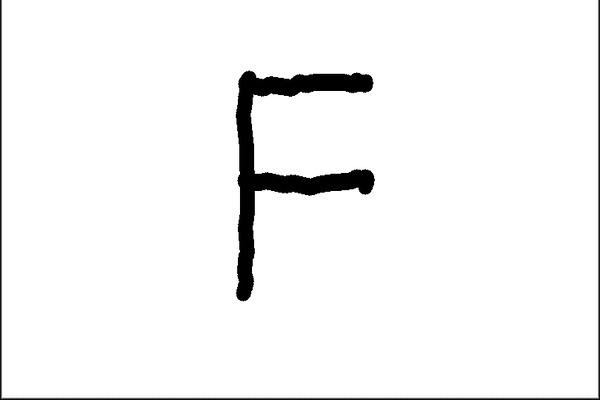F: (229, 64, 383, 307)
